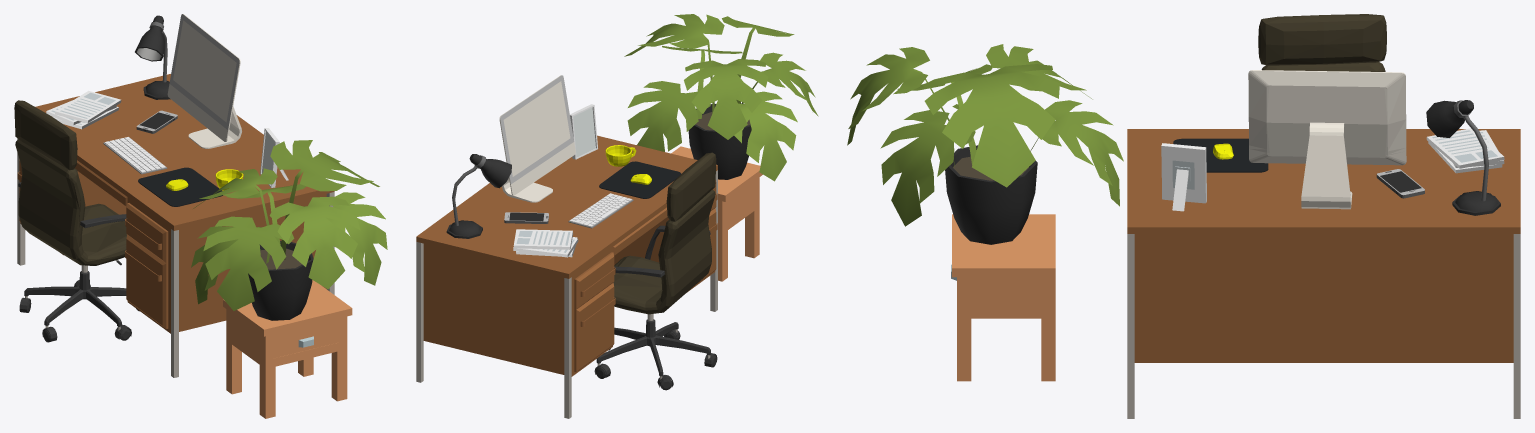
The model's file is Desk-2.glb.
3 renders of one model, left to right at view 1: azimuth 30°, elevation 25°; view 2: azimuth 150°, elevation 25°; view 3: azimuth 270°, elevation 25°, orthographic. The views are drawn at different scales.
Parts seen in each view (by area): view 1: Node.003, Houseplant-bfLOqIV5uP, Chair.003, Cabinet Bed Drawer Tabl, Monitor.001|iMac|Dupli|, Mousepad, Paper, Light Desk.001, Blank Picture Frame|Node.007|Dupli|, Phone, Cup.001|Cup|Dupli|; view 2: Node.003, Houseplant-bfLOqIV5uP, Chair.003, Monitor.001|iMac|Dupli|, Cabinet Bed Drawer Tabl, Mousepad, Light Desk.001, Paper, Blank Picture Frame|Node.007|Dupli|, Cup.001|Cup|Dupli|, Phone; view 3: Node.003, Houseplant-bfLOqIV5uP, Monitor.001|iMac|Dupli|, Cabinet Bed Drawer Tabl, Chair.003, Blank Picture Frame|Node.007|Dupli|, Light Desk.001, Paper, Mousepad, Phone.
Part boxes in pixels (x1,y1,x2,y2): Node.003: (17, 74, 334, 377); Houseplant-bfLOqIV5uP: (191, 140, 387, 320); Chair.003: (14, 100, 139, 342); Cabinet Bed Drawer Tabl: (223, 280, 352, 418); Monitor.001|iMac|Dupli|: (167, 14, 241, 148); Mousepad: (138, 167, 222, 206); Paper: (46, 90, 121, 129); Light Desk.001: (135, 15, 170, 99); Blank Picture Frame|Node.007|Dupli|: (260, 128, 288, 187); Phone: (136, 110, 177, 133); Cup.001|Cup|Dupli|: (215, 169, 243, 190); Node.003: (416, 135, 717, 418); Houseplant-bfLOqIV5uP: (624, 14, 818, 181); Chair.003: (594, 152, 717, 390); Monitor.001|iMac|Dupli|: (499, 75, 575, 202); Cabinet Bed Drawer Tabl: (671, 146, 762, 281); Mousepad: (599, 161, 681, 198); Light Desk.001: (446, 154, 511, 238); Paper: (513, 229, 578, 257); Blank Picture Frame|Node.007|Dupli|: (570, 104, 597, 159); Cup.001|Cup|Dupli|: (605, 145, 636, 166); Phone: (504, 212, 548, 223); Node.003: (1127, 129, 1520, 418); Houseplant-bfLOqIV5uP: (847, 44, 1123, 244); Monitor.001|iMac|Dupli|: (1248, 70, 1406, 209); Cabinet Bed Drawer Tabl: (951, 214, 1055, 381); Chair.003: (1258, 14, 1386, 71); Blank Picture Frame|Node.007|Dupli|: (1161, 143, 1206, 211); Light Desk.001: (1426, 100, 1500, 215); Paper: (1426, 128, 1504, 173); Mousepad: (1173, 138, 1268, 172); Phone: (1376, 169, 1424, 198).
Bounding box in the file's own units: 1.43 × 1.56 × 2.97.
Materials: 32 (3 with a texture image).
